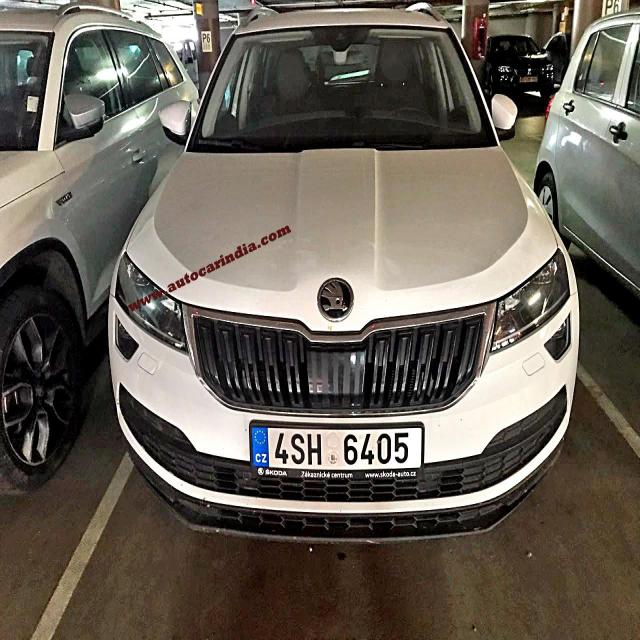number_plate: (261, 420, 421, 467)
